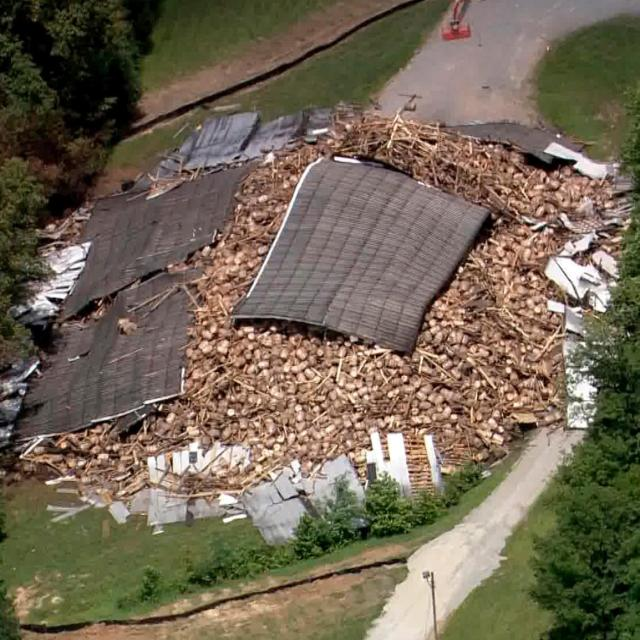collapsed_building: (29, 123, 527, 505)
